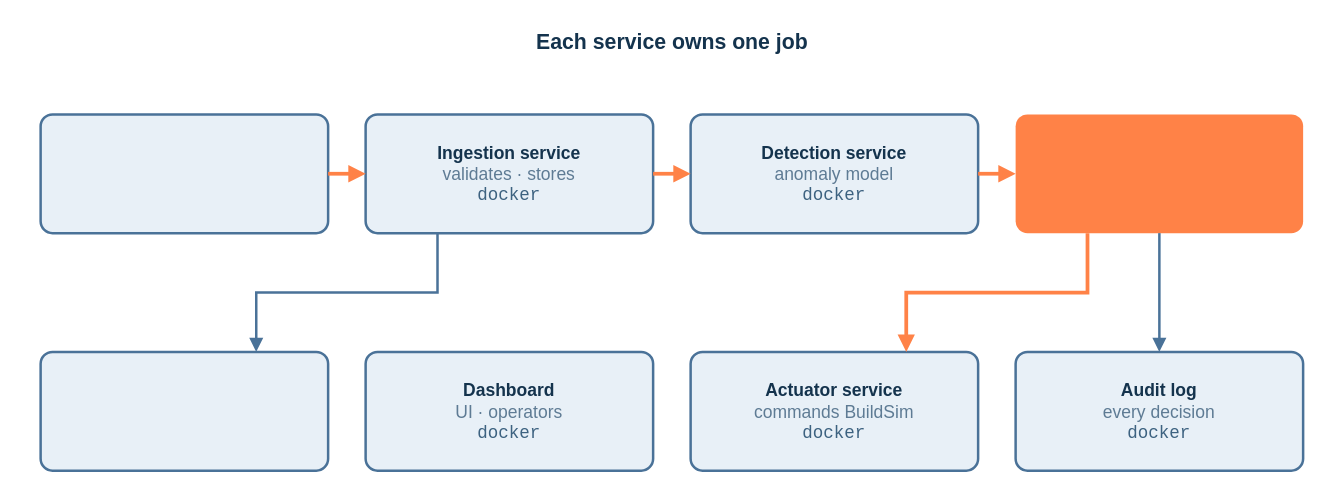
Some shapes in this 1343 by 493 pixel diagram are drawn without their labels. The box of each missing label's shape, as (x1, y1, x2, y2) in pixels:
Safety service agent · decides docker: (1015, 114, 1302, 232)
Sensor service reads BuildSim docker: (39, 112, 329, 234)
Storage time-series DB docker: (39, 350, 329, 471)
